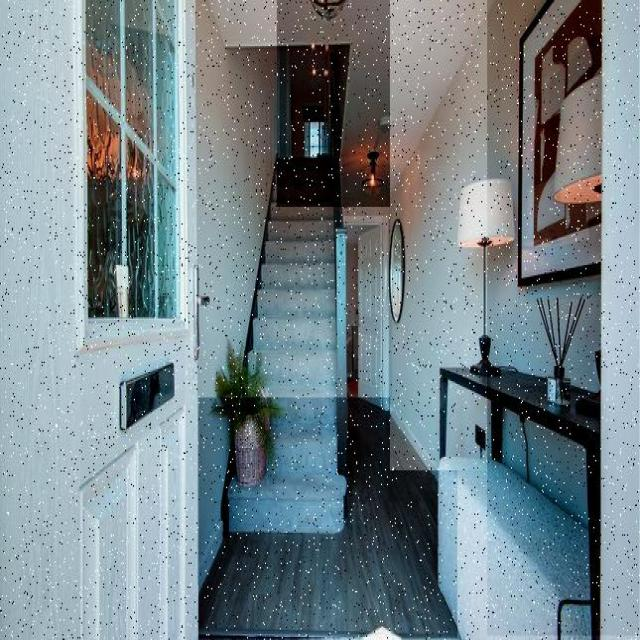Wall: (488, 0, 640, 636), (390, 0, 542, 470), (199, 399, 457, 639), (211, 0, 492, 207), (196, 0, 277, 585), (528, 422, 584, 522), (447, 388, 489, 455)
